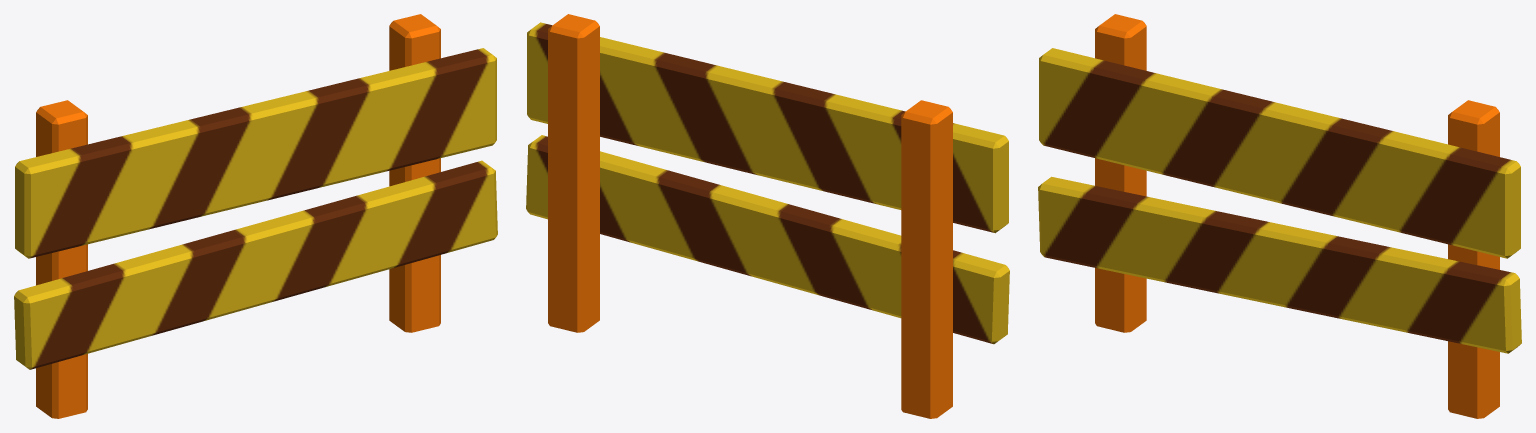
File: Props_Construction_Barricade_01.fbx
3 views of the same model, side by side, from view 1: azimuth 30°, elevation 25°; view 2: azimuth 150°, elevation 25°; view 3: azimuth 330°, elevation 25° (orthographic).
Parts seen in each view (by area): view 1: Props_Construction_Barricade_01; view 2: Props_Construction_Barricade_01; view 3: Props_Construction_Barricade_01.
Part boxes in pixels (<box>): Props_Construction_Barricade_01: <box>14,14,497,418</box>; Props_Construction_Barricade_01: <box>526,14,1009,418</box>; Props_Construction_Barricade_01: <box>1038,14,1521,418</box>.
Bounding box in the file's own units: 201 × 121 × 25.6.
